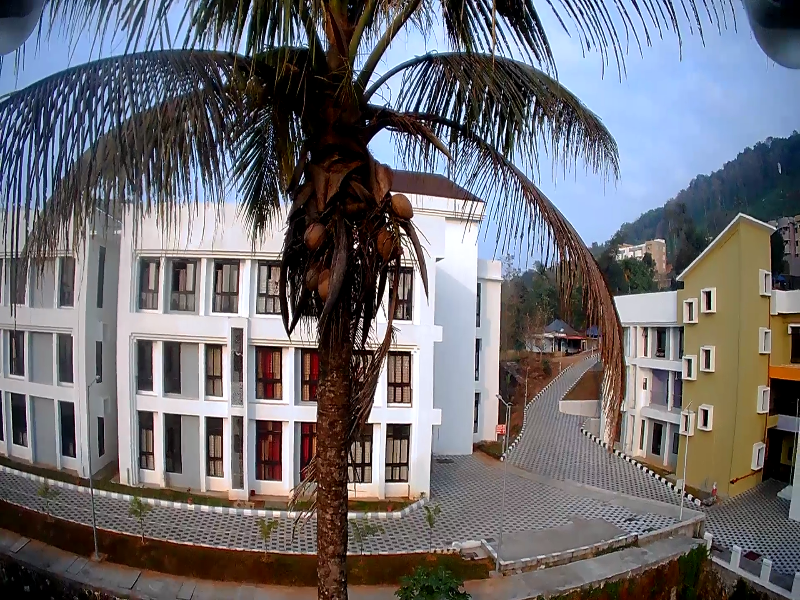coconut: (389, 191, 412, 220), (313, 265, 332, 300), (301, 222, 321, 248), (375, 234, 394, 257), (303, 267, 319, 288)
